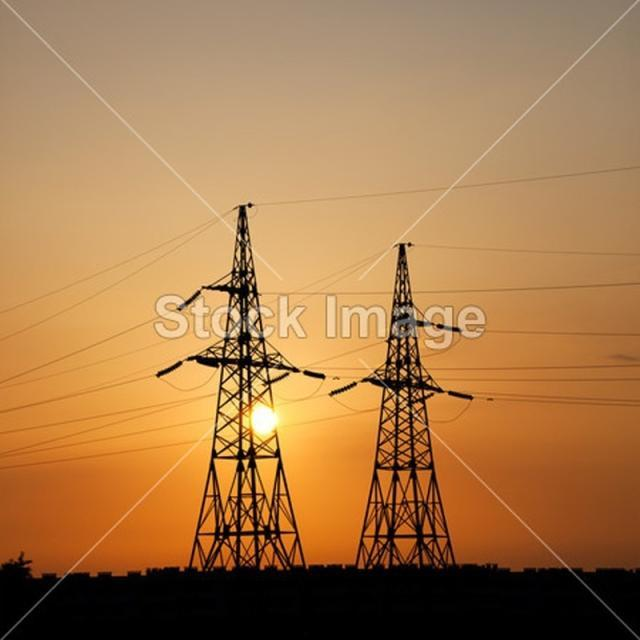non-critical vegetation: (207, 206, 306, 561), (352, 248, 458, 574)
